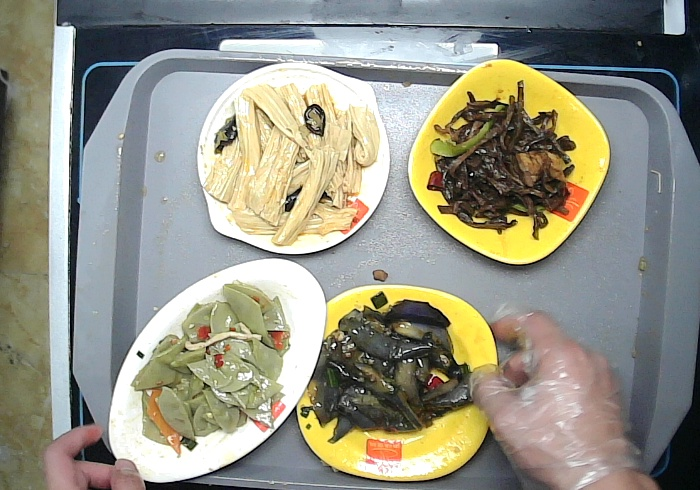SHKJ-Bao_Yu_Pan: (197, 63, 390, 253)
SHKJ-Huang_Se_Cai_Die: (408, 59, 610, 266)
SHKJ-Huang_Se_Si_Fang_Cai_Die: (295, 283, 498, 480)
SHKJ-Yu_Pan: (107, 257, 326, 482)
